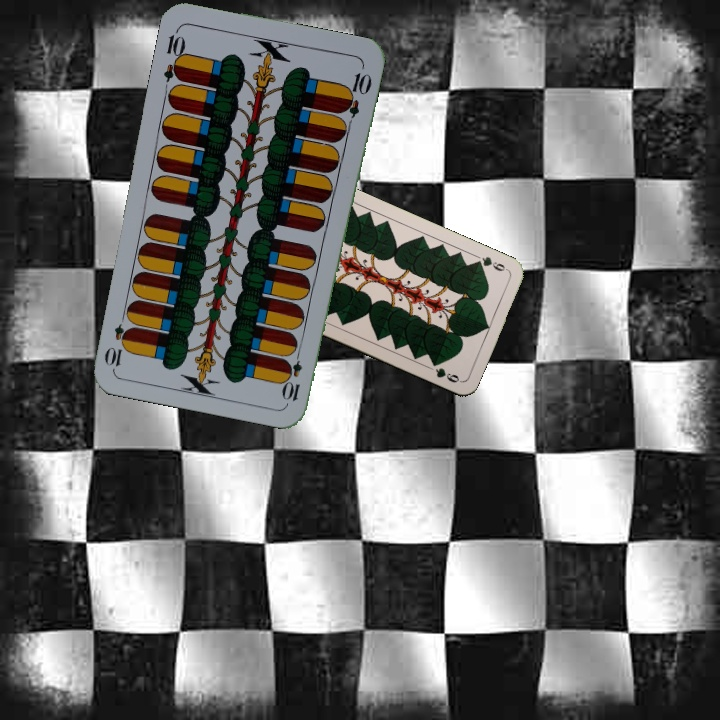E10: (160, 25, 189, 84), (281, 344, 305, 404)
G9: (471, 252, 511, 274)
